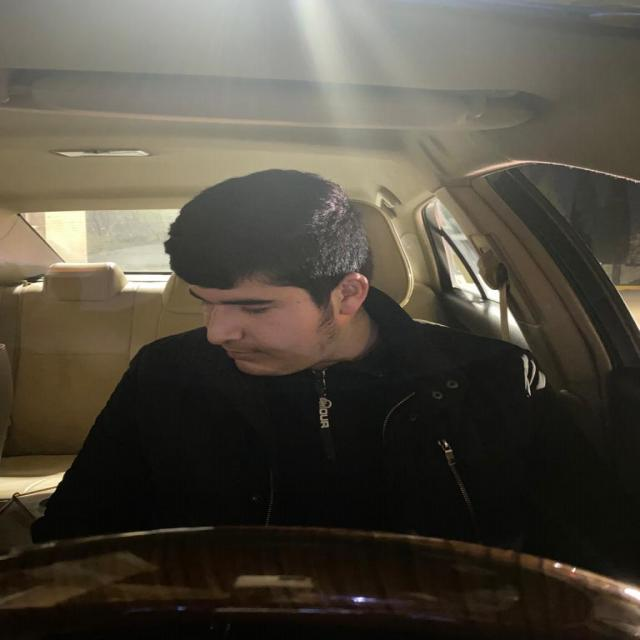drowsy: (161, 168, 372, 380)
